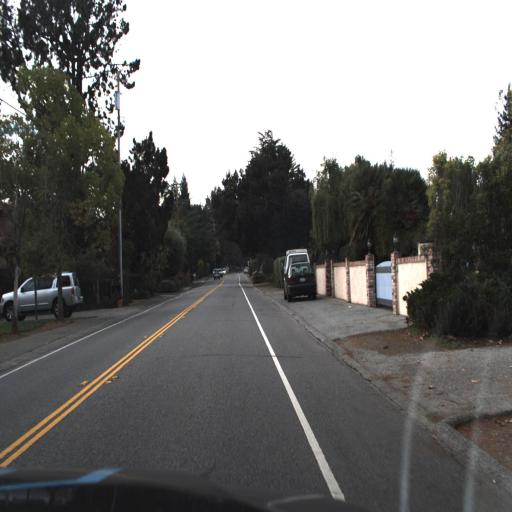car: (0, 269, 83, 323), (281, 260, 316, 301), (283, 247, 311, 273)
